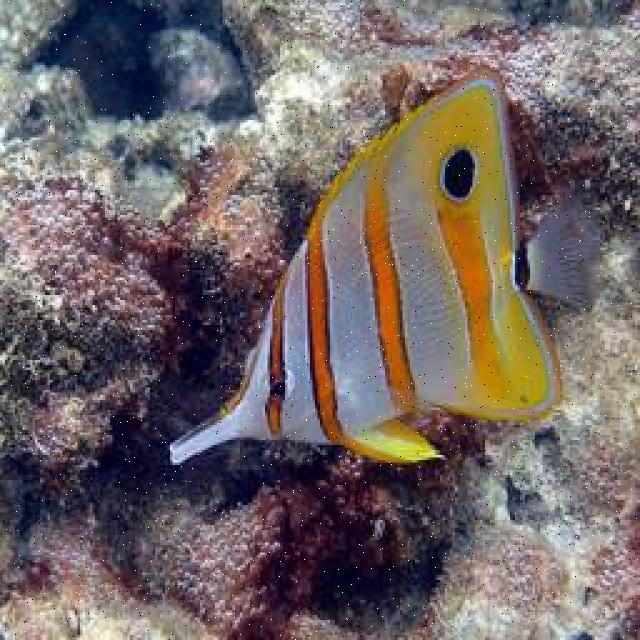fish: (168, 65, 605, 464)
reefs: (0, 143, 283, 521), (25, 453, 418, 638)
